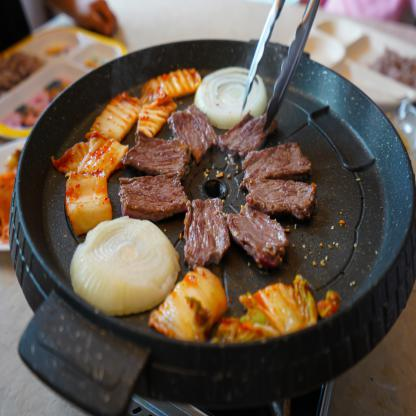Carne: (181, 190, 234, 271), (227, 205, 293, 266), (244, 176, 319, 222), (171, 95, 222, 157), (118, 171, 192, 213), (240, 141, 313, 180), (126, 136, 190, 178), (217, 114, 279, 155)
